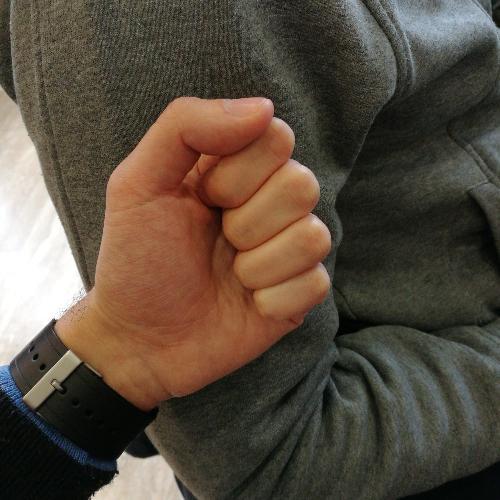rock: (90, 85, 341, 404)
